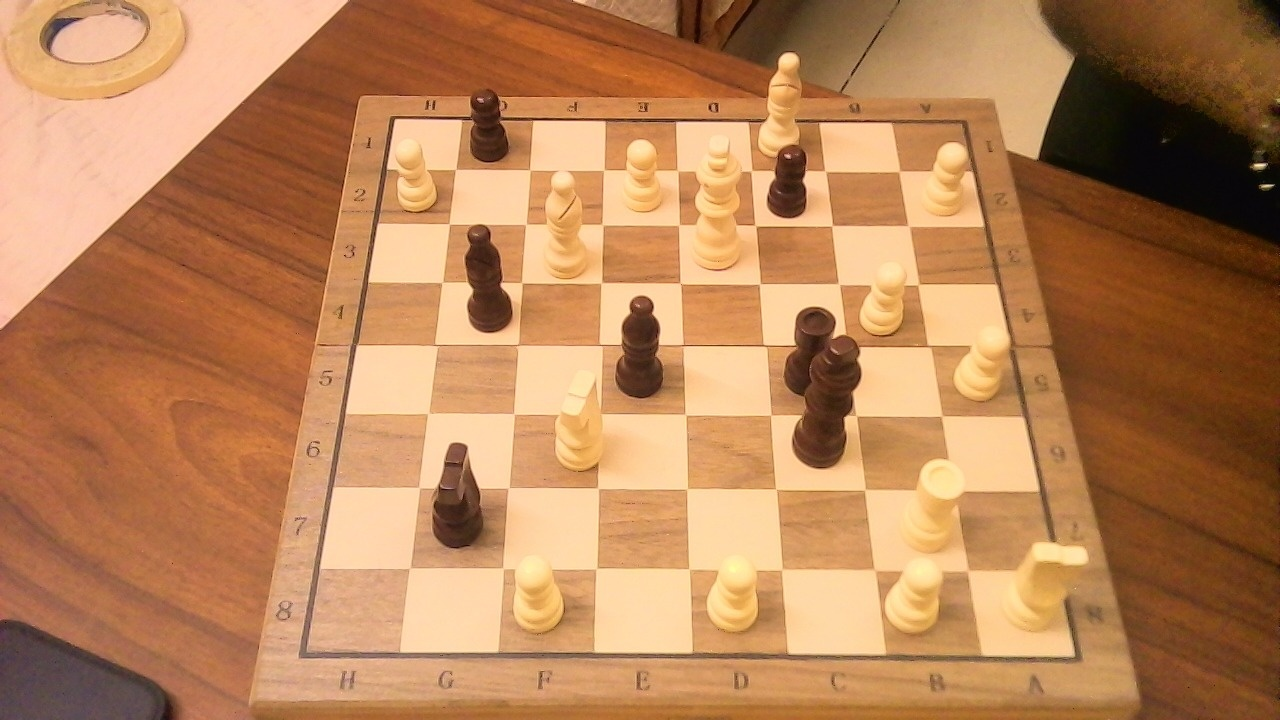B: (533, 159, 596, 282), (754, 41, 813, 162)
K: (684, 123, 753, 275)
N: (994, 529, 1095, 635), (543, 358, 611, 475)
P: (505, 544, 572, 638), (699, 544, 767, 636), (947, 316, 1018, 404), (883, 547, 951, 636), (914, 133, 977, 220), (854, 252, 914, 338), (612, 130, 669, 217), (386, 130, 443, 214)
R: (892, 448, 973, 556)
b: (453, 209, 520, 337), (608, 283, 677, 401)
k: (783, 322, 876, 475)
n: (421, 428, 497, 551)
p: (760, 135, 820, 222), (463, 80, 518, 165)
r: (777, 294, 848, 399)
